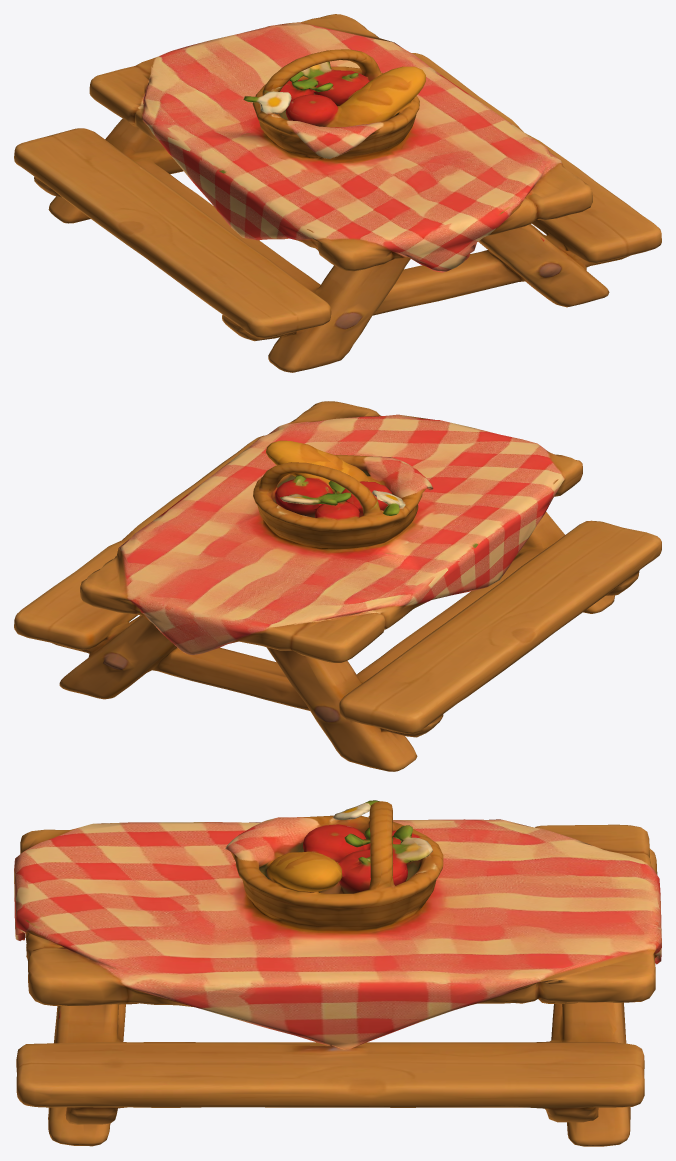
3 renders of one model, top to bottom at view 1: azimuth 30°, elevation 25°; view 2: azimuth 150°, elevation 25°; view 3: azimuth 270°, elevation 25°, orthographic. The views are drawn at different scales.
Parts seen in each view (by area): view 1: picnic-table; view 2: picnic-table; view 3: picnic-table.
Boxes of the visible parts, box(x1,y1,x2,y2) form: picnic-table: box(14, 14, 661, 372); picnic-table: box(14, 401, 661, 771); picnic-table: box(14, 800, 661, 1146).
Bounding box in the file's own units: 1.81 × 0.8003 × 2.
1 material, 1 textured.
